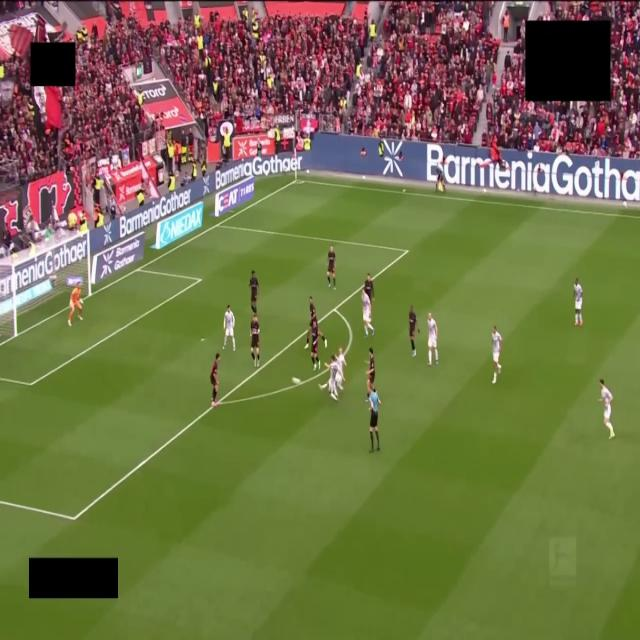ball: (292, 377, 300, 384)
player: (319, 355, 338, 400), (600, 379, 614, 439), (305, 296, 317, 348), (332, 348, 346, 391), (427, 313, 438, 366), (492, 326, 502, 383), (362, 289, 374, 336), (68, 286, 82, 326), (223, 305, 235, 351), (310, 317, 320, 370), (409, 306, 419, 357), (210, 353, 219, 407), (249, 271, 259, 314), (367, 348, 375, 401), (251, 316, 259, 367), (574, 279, 582, 326), (327, 246, 335, 288), (364, 274, 374, 303)
referee: (368, 388, 380, 452)
